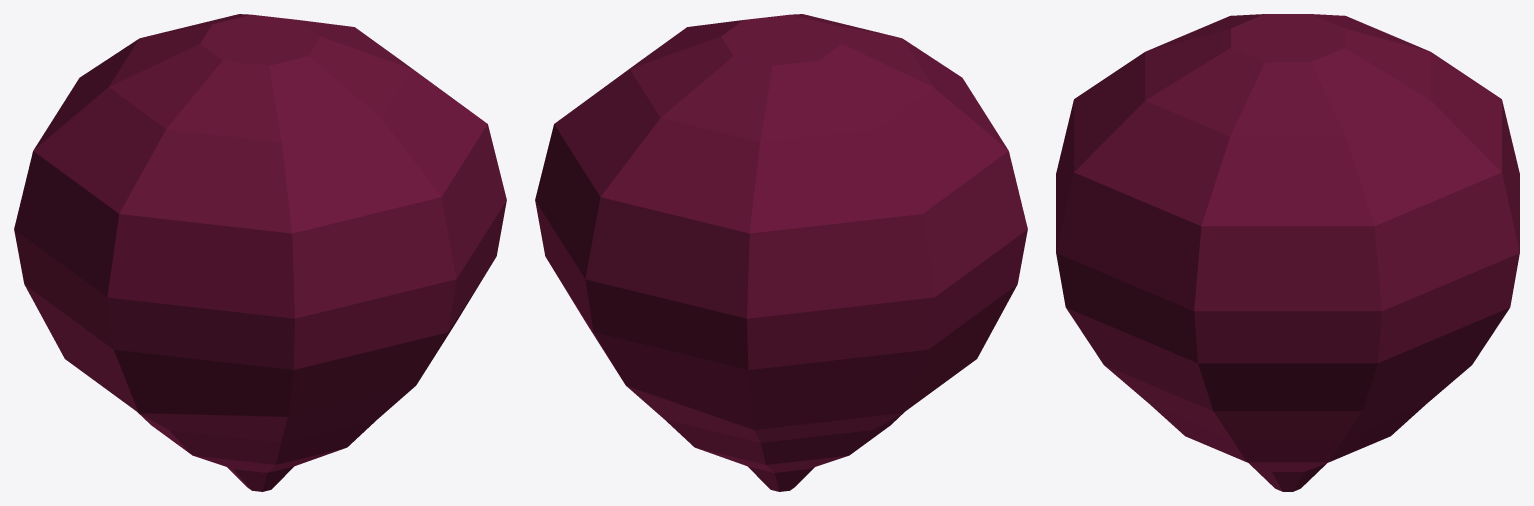
Rendered from whole onion.fbx.
3 views of the same model, side by side, from view 1: azimuth 30°, elevation 25°; view 2: azimuth 150°, elevation 25°; view 3: azimuth 270°, elevation 25° (orthographic).
Parts seen in each view (by area): view 1: Cube; view 2: Cube; view 3: Cube.
Part boxes in pixels (x1,y1,x2,y2): Cube: [14, 14, 506, 491]; Cube: [535, 14, 1027, 491]; Cube: [1056, 14, 1519, 491].
Bounding box in the file's own units: 217 × 231 × 217.
